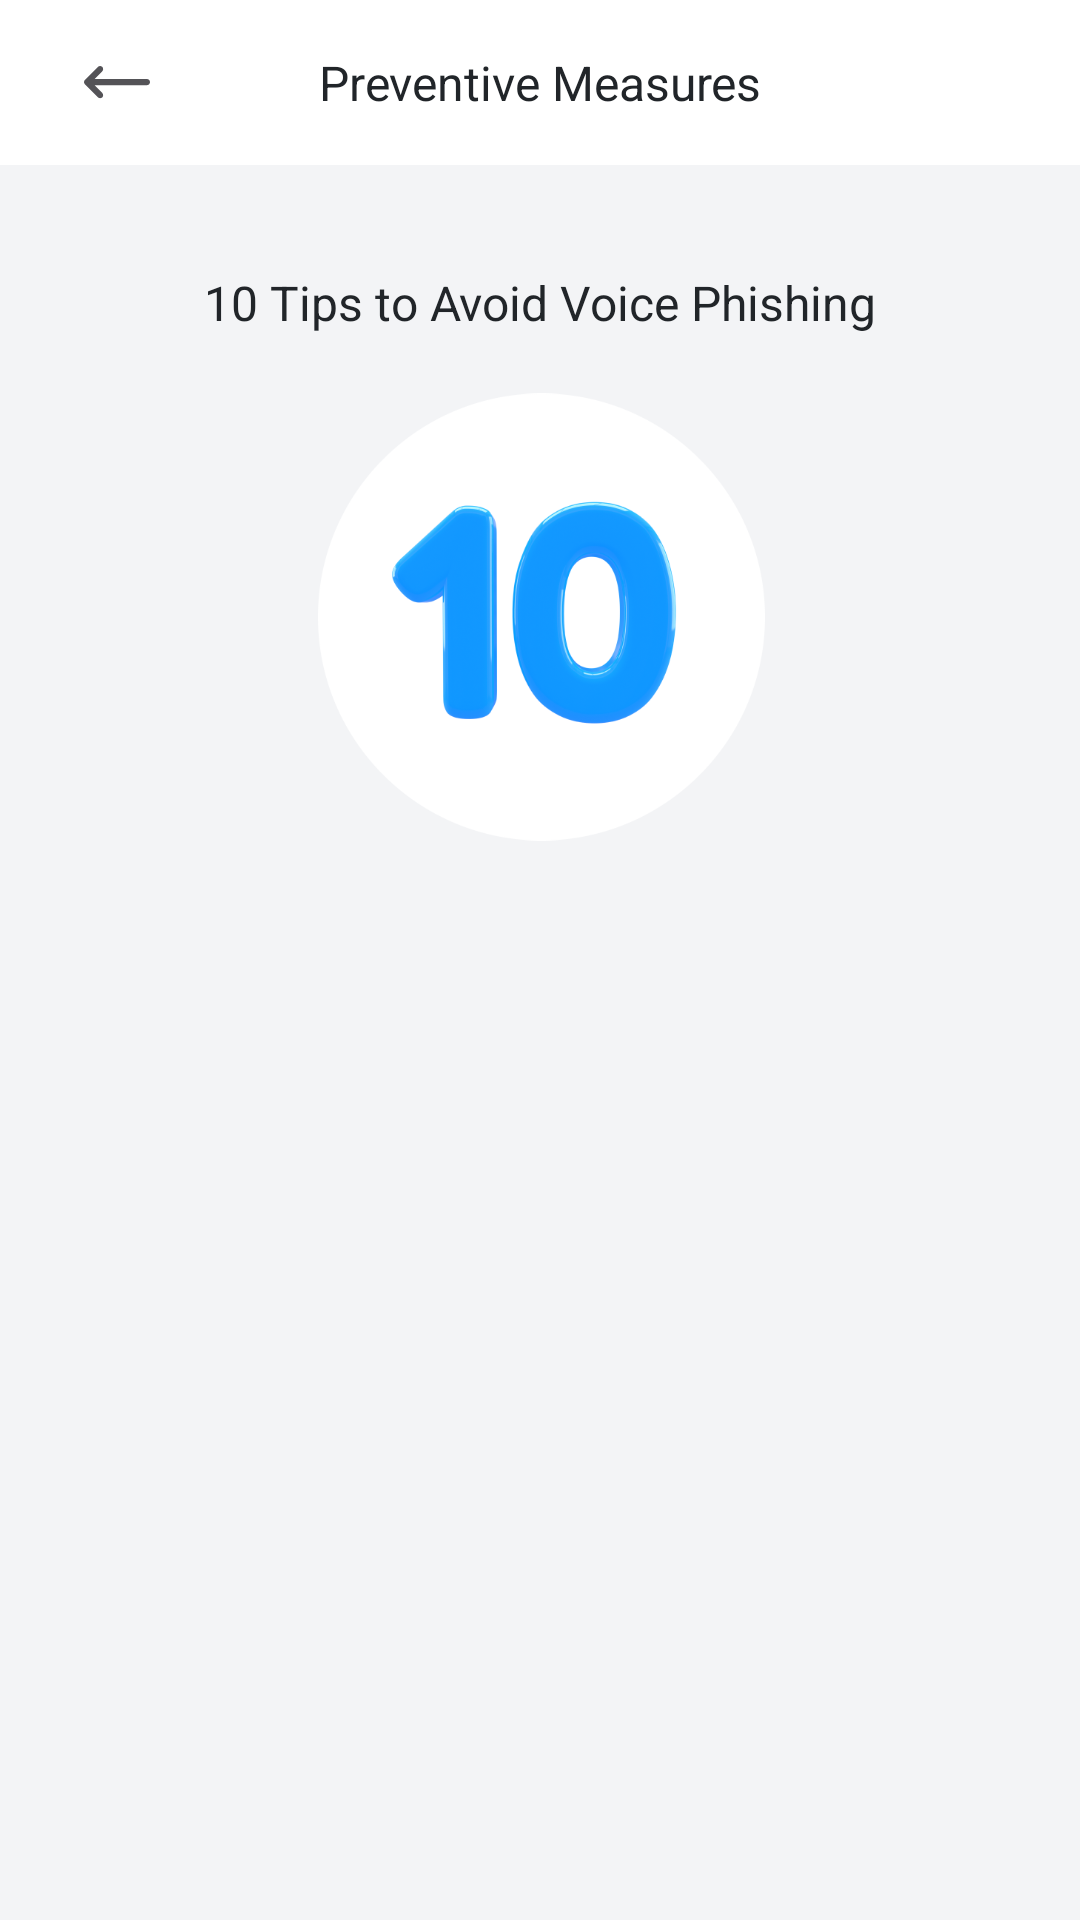

Named icons in this screenshot (1080 × 1920) and their centers, (x,y):
back: (117,82)
